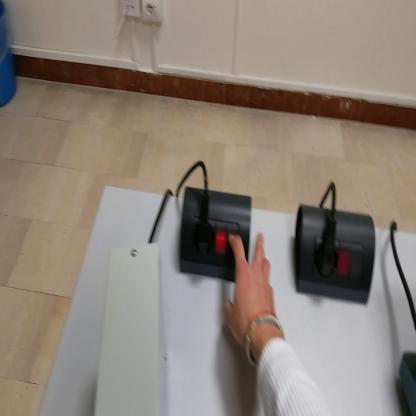hand: (223, 227, 280, 355)
oscilloscope: (400, 354, 416, 415)
power supply: (93, 246, 169, 416)
socket: (296, 207, 376, 309), (182, 188, 255, 286)
